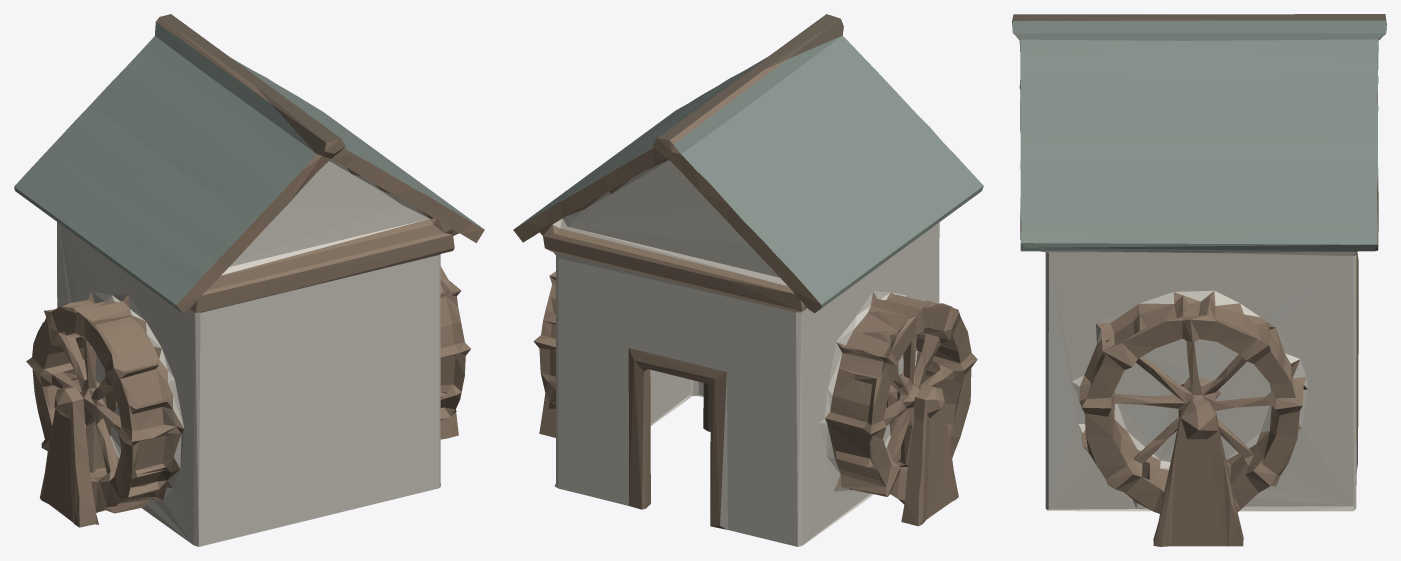
3 views of the same model, side by side, from view 1: azimuth 30°, elevation 25°; view 2: azimuth 150°, elevation 25°; view 3: azimuth 270°, elevation 25° (orthographic). The views are drawn at different scales.
Visible parts, largest first — view 1: geometry_0; view 2: geometry_0; view 3: geometry_0.
Boxes of the visible parts, left/top/right/bottom form: geometry_0: left=14, top=14, right=484, bottom=546; geometry_0: left=513, top=14, right=983, bottom=546; geometry_0: left=1012, top=14, right=1386, bottom=546.
Size of the model in its own units: 0.9825 by 0.9368 by 0.7437.
